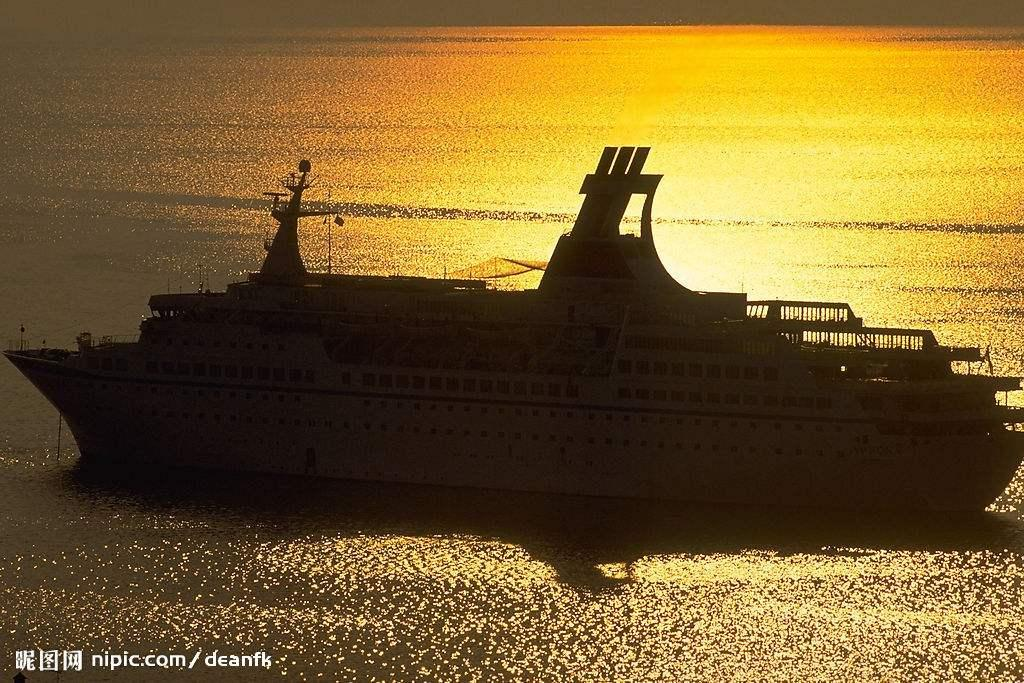youlun: (3, 141, 1024, 508)
